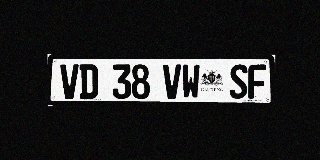3: (113, 64, 131, 99)
8: (132, 64, 150, 99)
D: (79, 64, 98, 99)
F: (248, 64, 266, 99)
S: (230, 64, 248, 99)
V: (60, 64, 79, 99), (163, 64, 181, 99)
W: (182, 64, 200, 99)
